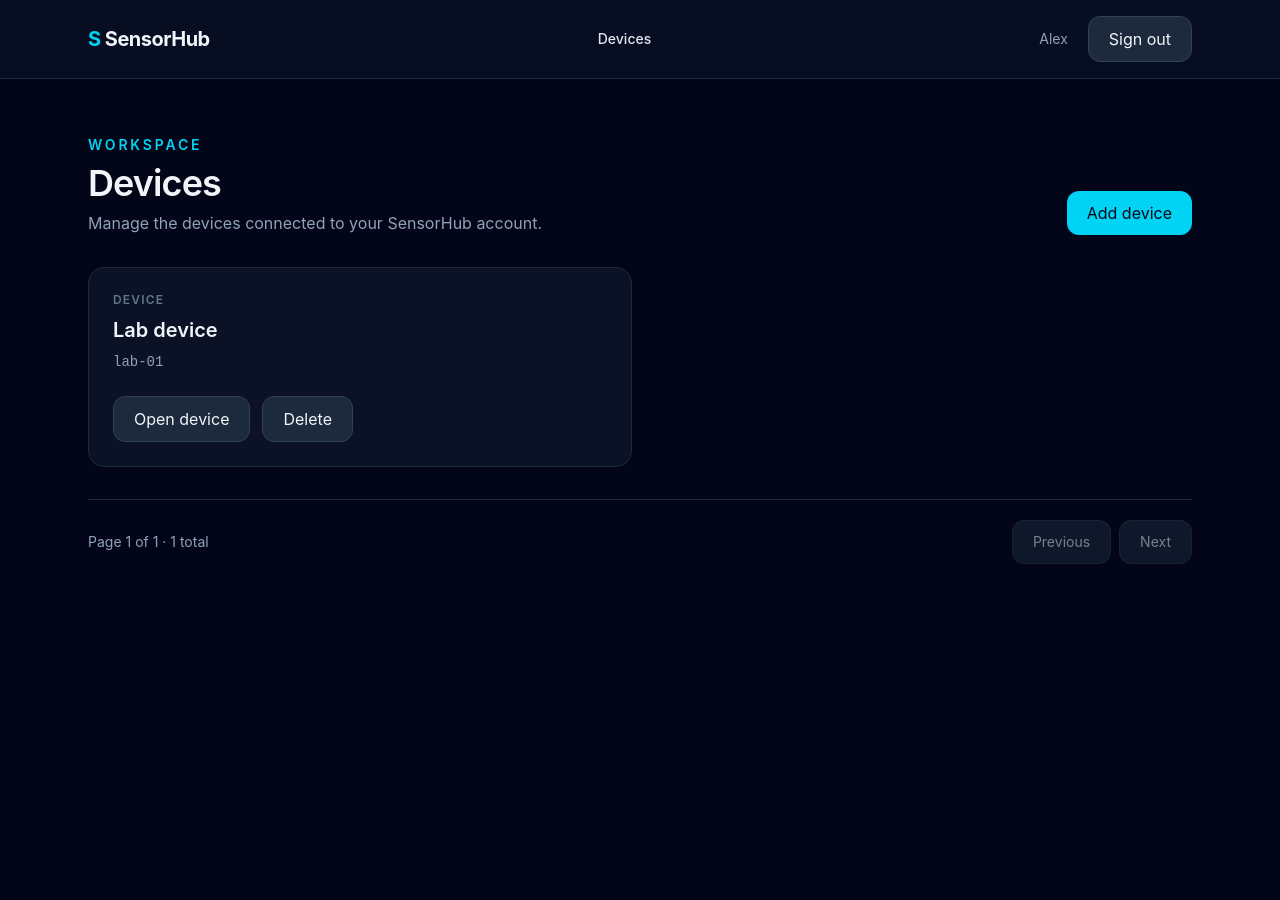
Session and routing › does not reuse the previous user’s cached devices after logout and login
Expected: the link "Lab device" is shown, left=113, top=318, right=218, bottom=342
Click the button "Sign out" at (1140, 39), box left=1088, top=16, right=1192, bottom=62
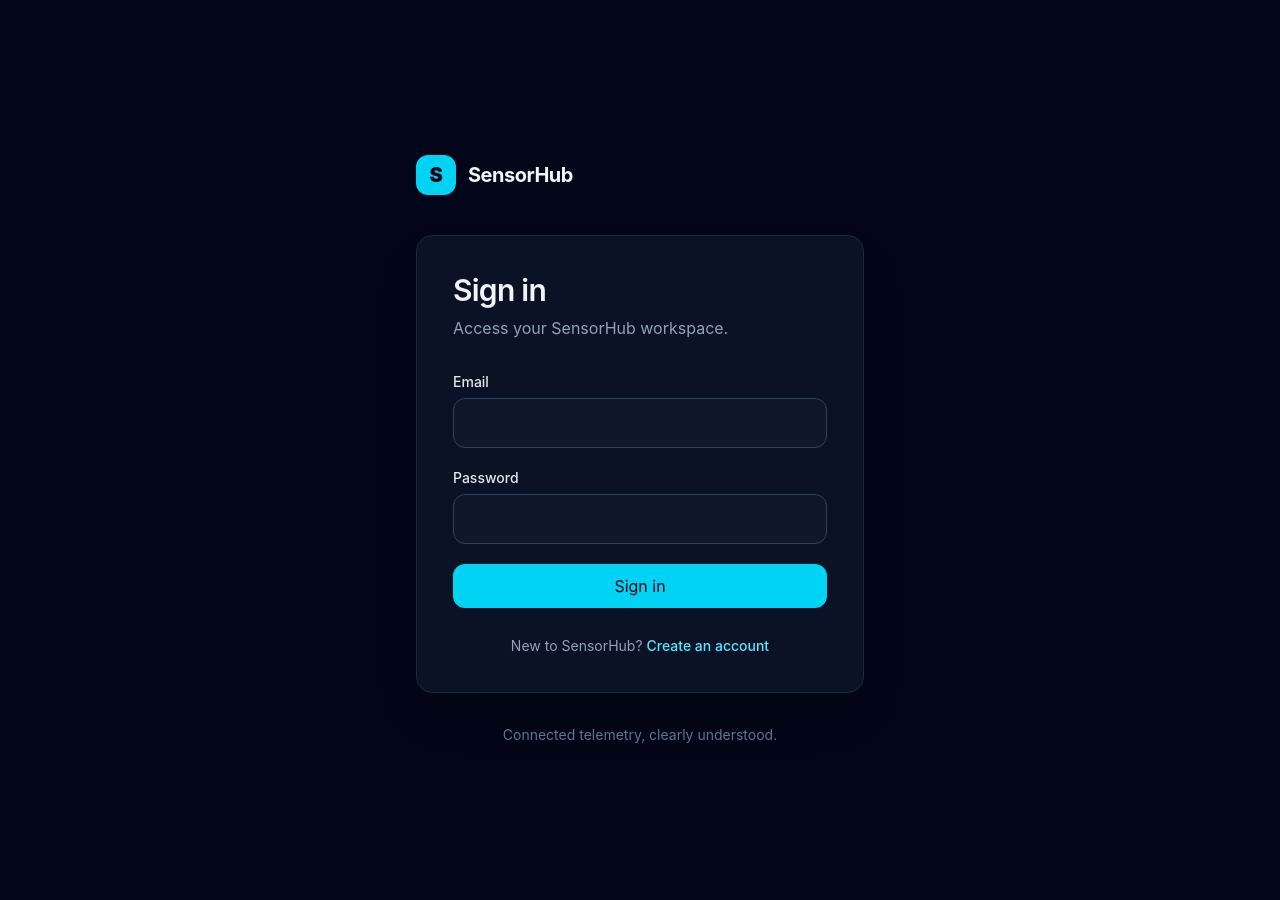
Type "taylor@example.test" into the field labelled "Email" at (640, 423), box left=453, top=398, right=827, bottom=448
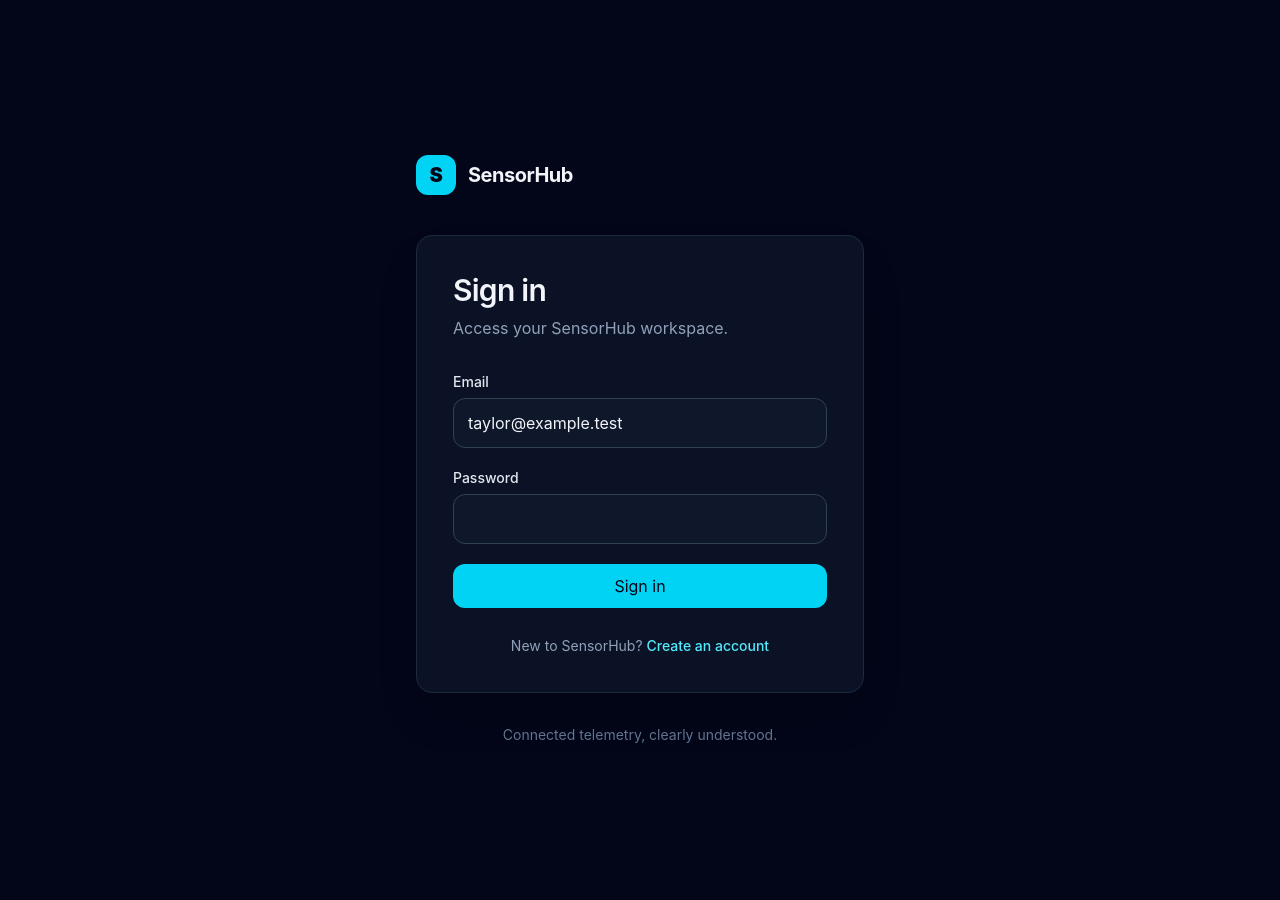
Type "synthetic-password" into the password field labelled "Password" at (640, 519), box left=453, top=494, right=827, bottom=544
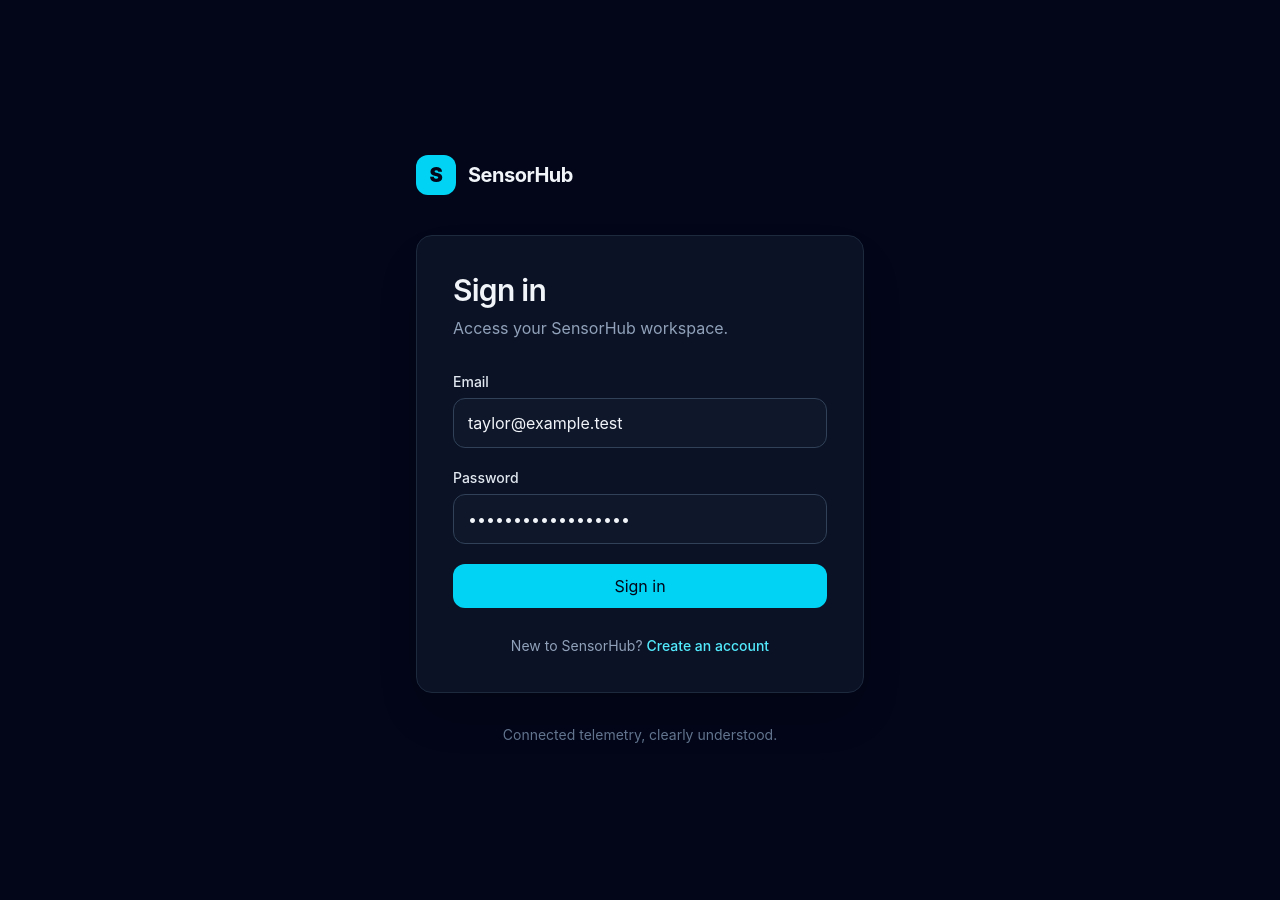
Click the button "Sign in" at (640, 586), box left=453, top=564, right=827, bottom=608
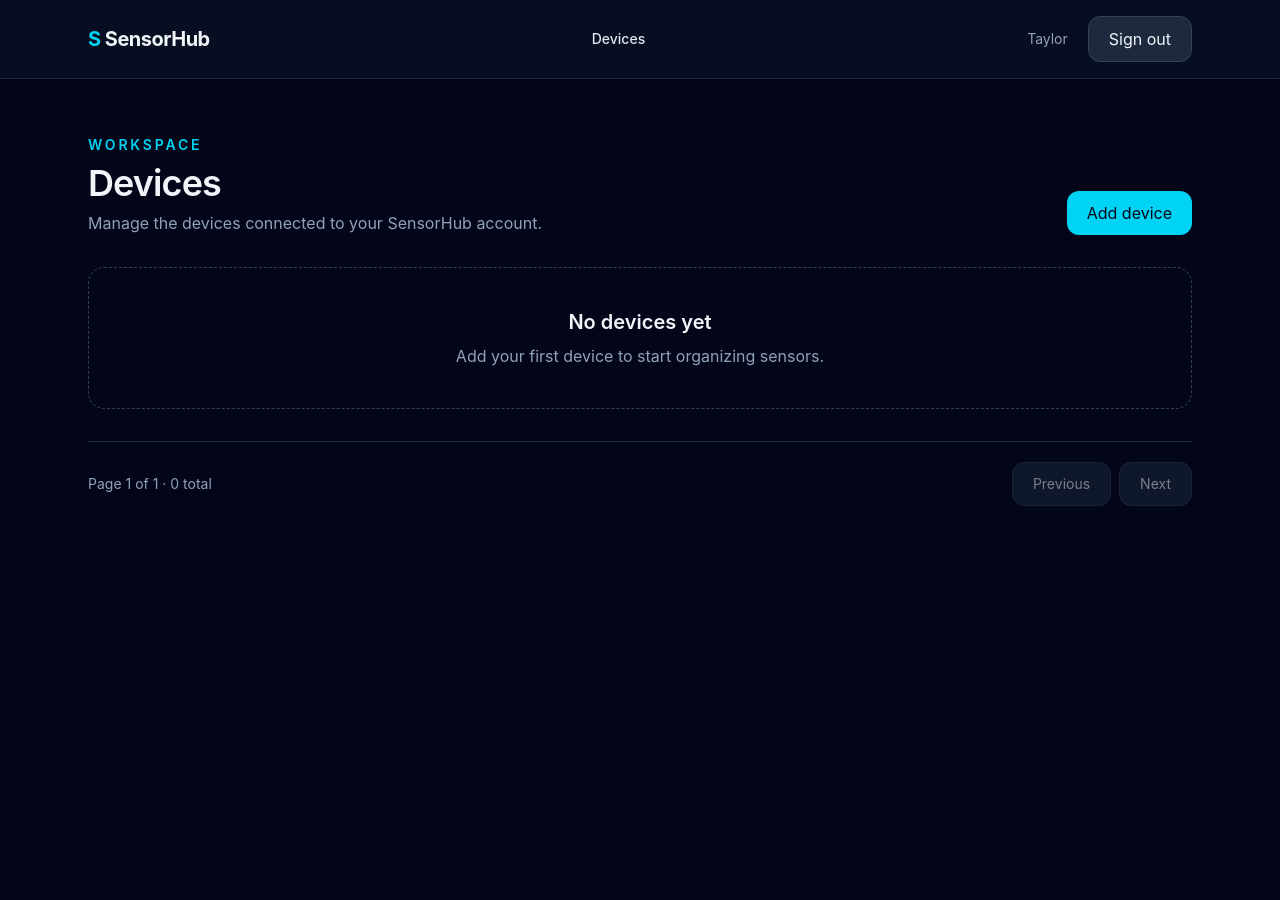
Expected: the heading "No devices yet" is shown, left=568, top=310, right=712, bottom=334
